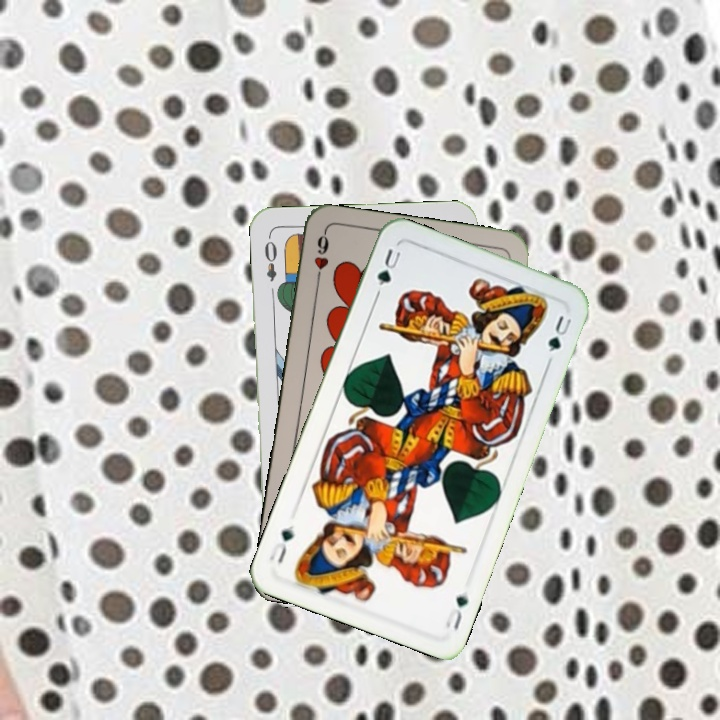EO: (260, 232, 279, 284)
GU: (372, 244, 403, 298), (441, 587, 471, 634)
H9: (310, 229, 332, 288)
